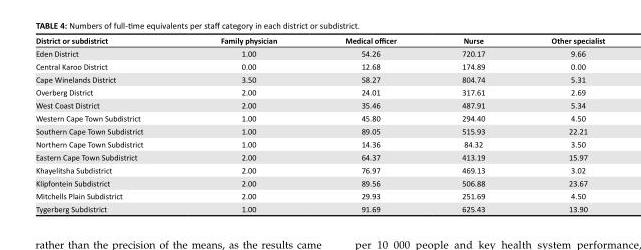table: (34, 34, 604, 213)
table column: (34, 34, 181, 213), (181, 34, 310, 213), (310, 34, 428, 213), (428, 34, 517, 213), (517, 34, 604, 213)
table column header: (34, 34, 604, 47)
table row: (34, 34, 604, 47), (34, 47, 604, 60), (34, 60, 604, 73), (34, 73, 604, 86), (34, 86, 604, 99), (34, 111, 604, 124), (34, 124, 604, 137), (34, 137, 604, 150), (34, 150, 604, 163), (34, 163, 604, 176), (34, 176, 604, 189), (34, 189, 604, 202), (34, 99, 604, 111), (34, 202, 604, 213)
